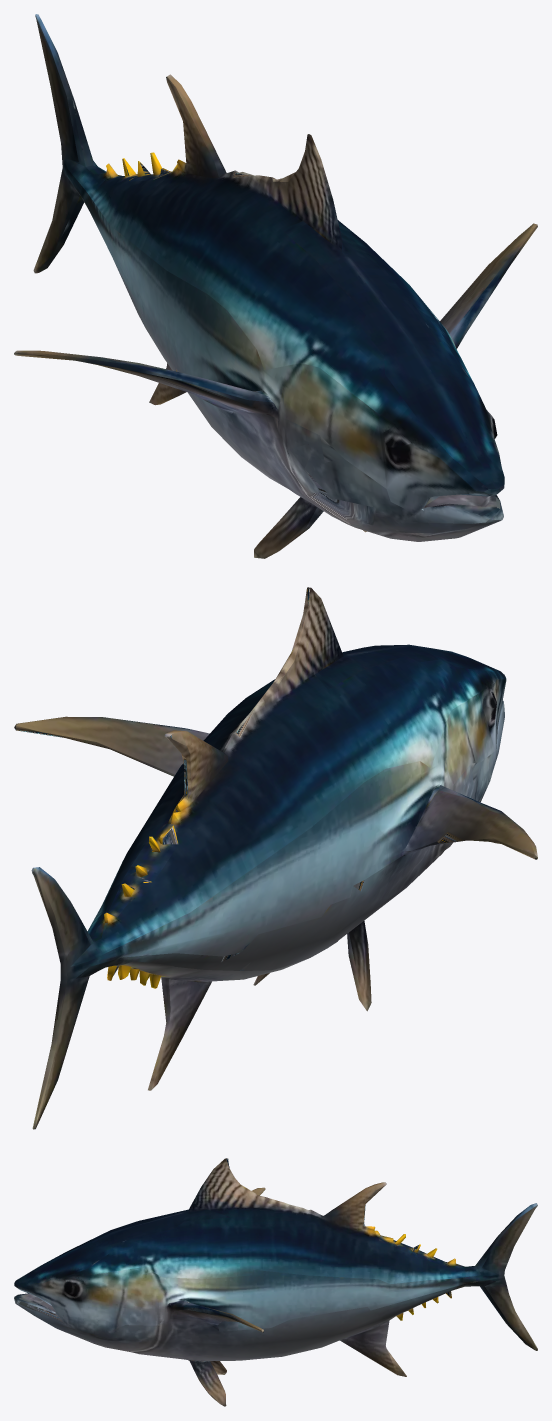
The model's file is tuna.glb.
The picture shows the model from 3 angles, top to bottom: view 1: azimuth 30°, elevation 25°; view 2: azimuth 150°, elevation 25°; view 3: azimuth 270°, elevation 25°; orthographic projection. The views are drawn at different scales.
Parts seen in each view (by area): view 1: geometry_0; view 2: geometry_0; view 3: geometry_0.
Boxes of the visible parts, <box> form: geometry_0: <box>14,14,537,558</box>; geometry_0: <box>14,587,537,1129</box>; geometry_0: <box>14,1158,537,1406</box>.
Size of the model in its own units: 0.6566 by 0.4922 by 1.
1 material, 1 textured.
